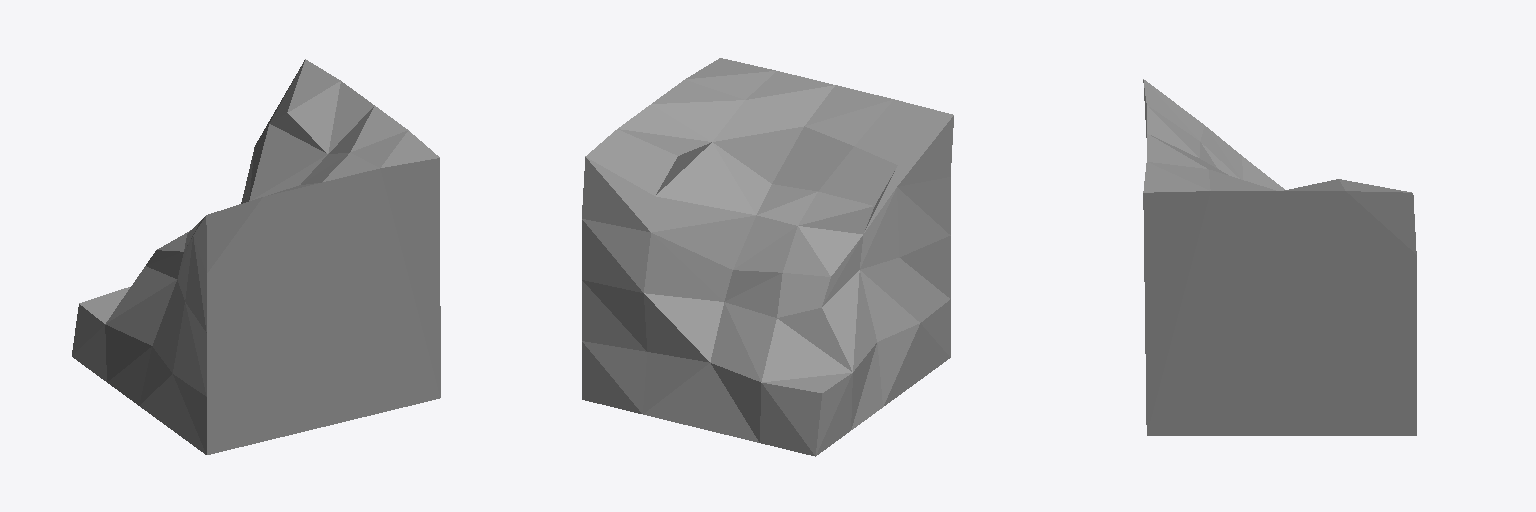
Rendered from crumbled_corner.obj.
The picture shows the model from 3 angles: view 1: azimuth 30°, elevation 25°; view 2: azimuth 150°, elevation 25°; view 3: azimuth 270°, elevation 25°; orthographic projection.
Visible parts, largest first — view 1: Cube; view 2: Cube; view 3: Cube.
Part boxes in pixels (x1,y1,x2,y2): Cube: (72,59,440,454); Cube: (582,58,953,456); Cube: (1143,79,1416,435).
Size of the model in its own units: 1.01 by 1 by 1.01.